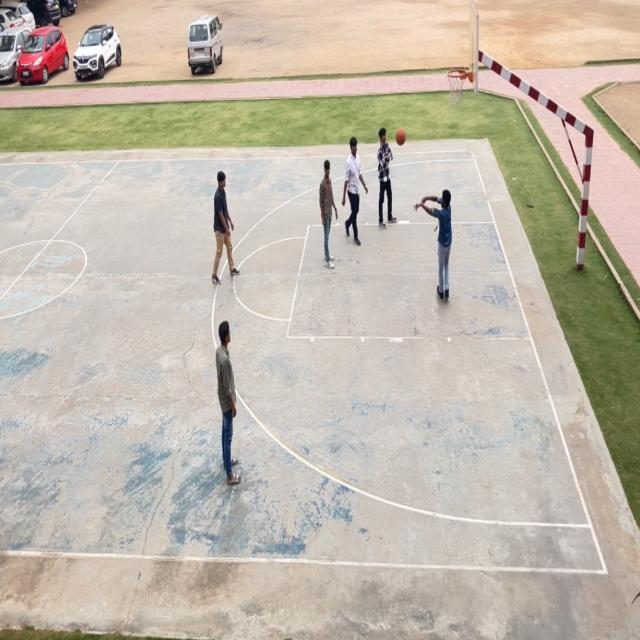basketball: (394, 125, 408, 148)
hoop: (447, 67, 468, 105)
